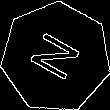N_SE: (24, 28, 87, 87)
